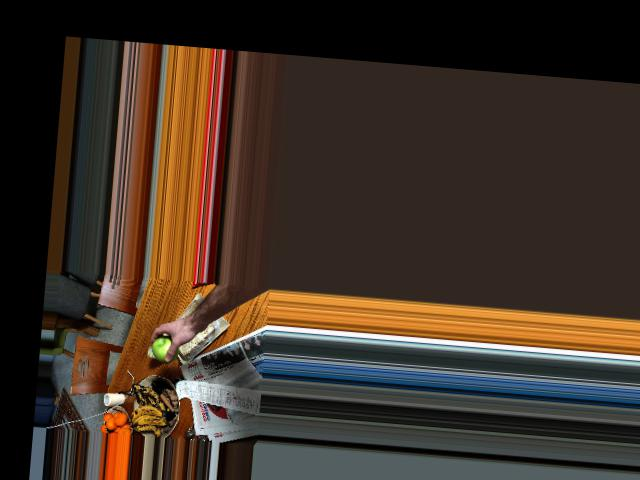apple: (150, 329, 190, 364)
